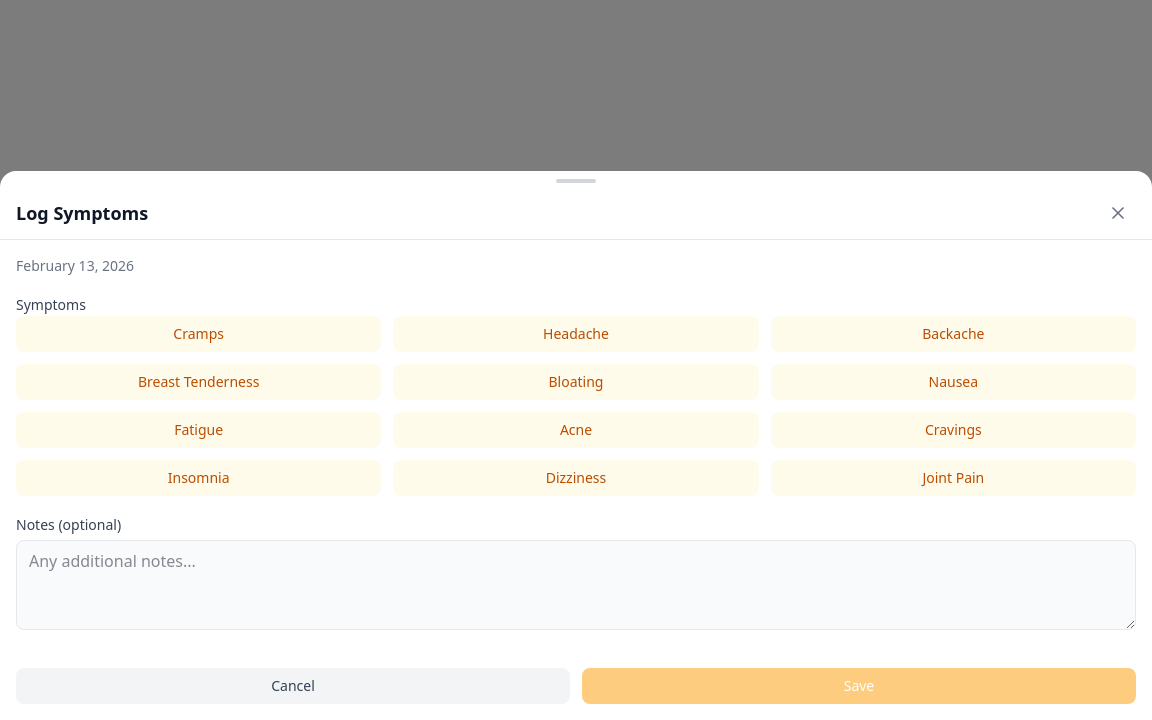
Scenario: SymptomLogForm › save button state › should enable Save button when symptoms are selected
Note: Click on a symptom button to select it
Step 1. Click the button "Cramps" → coordinates (199, 334), box [16,316,381,352]
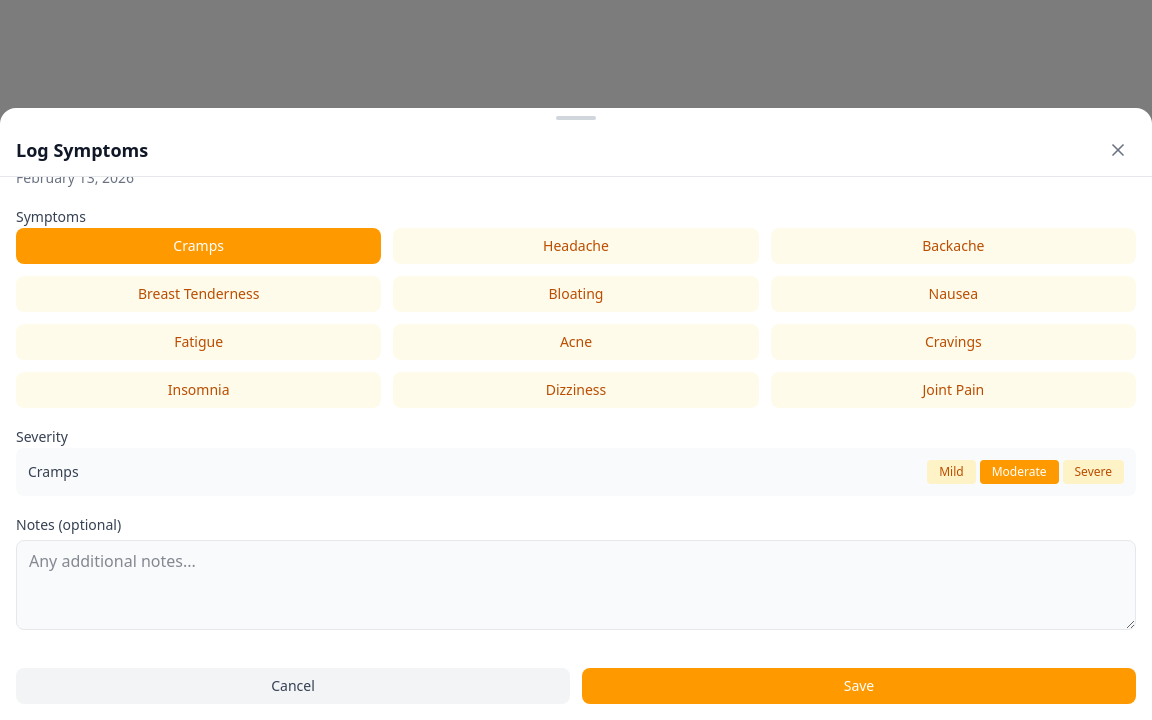
Expected: the button "Save" is enabled, [582,668,1136,704]
